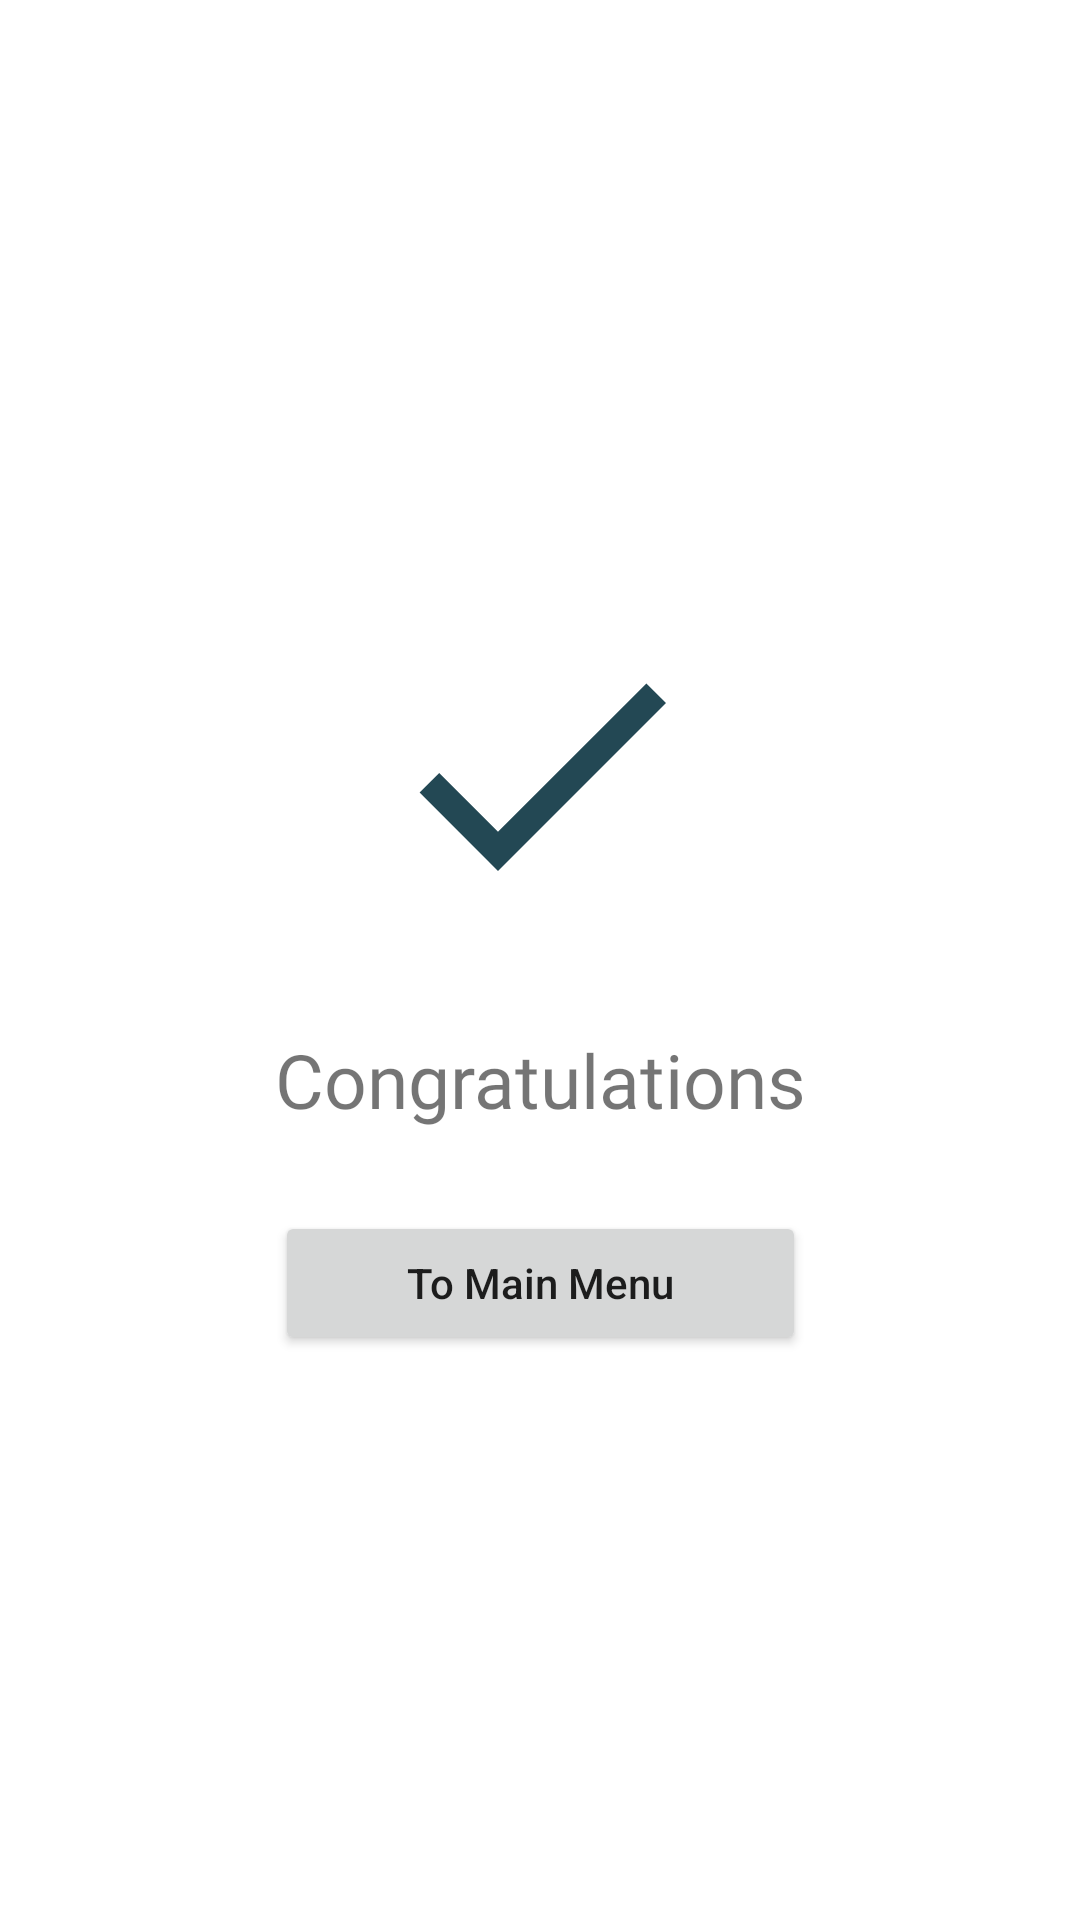

Icons on this 1080×1920 Android screen, each with its box as (x1, y1, x2, y2):
done: (419, 683, 666, 871)
